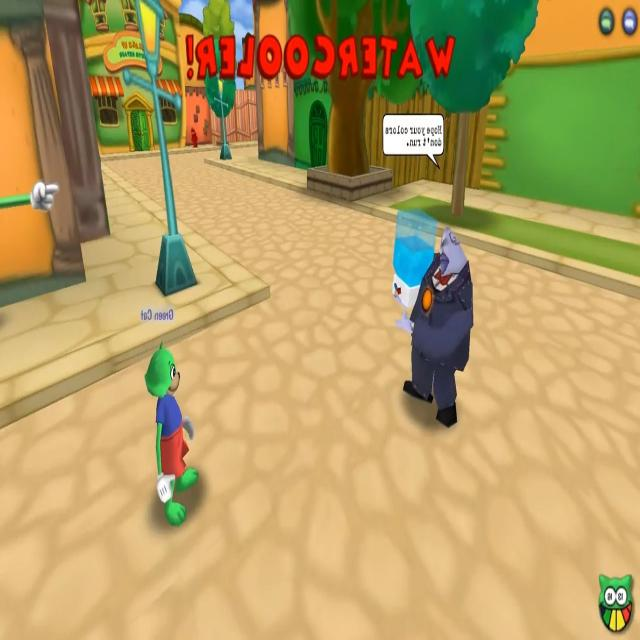bottomfeeder: (384, 110, 474, 427)
